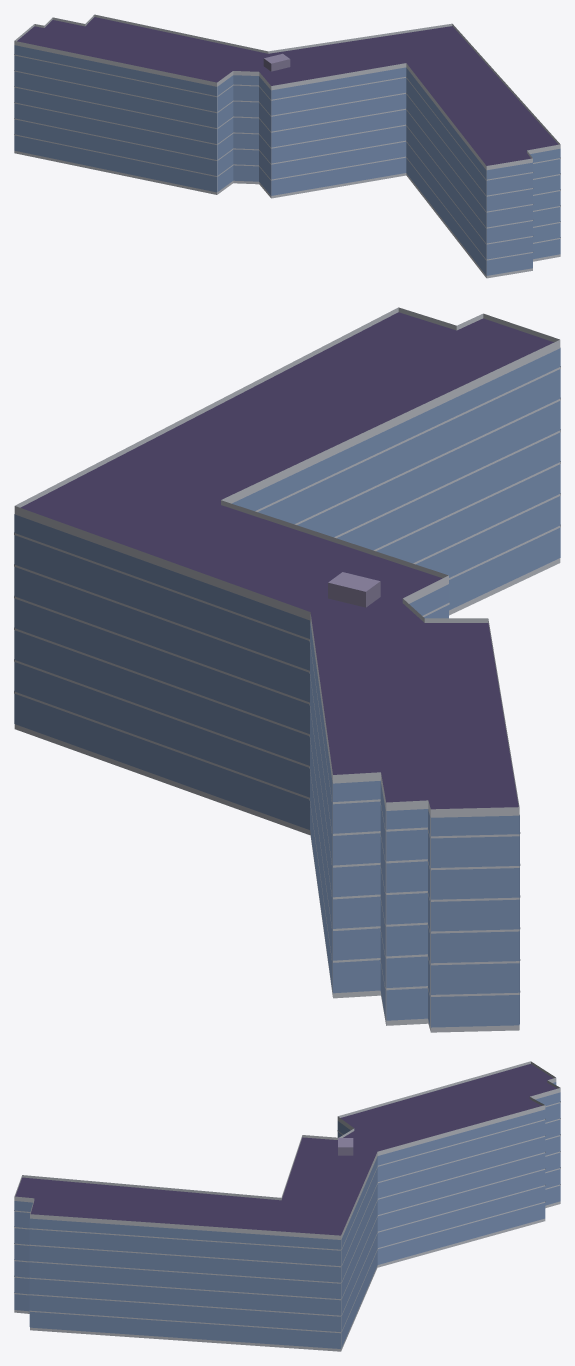
Rendered from b-000-day.glb.
3 renders of one model, top to bottom at view 1: azimuth 30°, elevation 25°; view 2: azimuth 150°, elevation 25°; view 3: azimuth 270°, elevation 25°, orthographic. The views are drawn at different scales.
Visible parts, largest first — view 1: campus/b-000-day-0; view 2: campus/b-000-day-0; view 3: campus/b-000-day-0.
Boxes of the visible parts, x1,y1,x2,y2 form: campus/b-000-day-0: (14,14,560,278); campus/b-000-day-0: (14,307,560,1032); campus/b-000-day-0: (14,1061,560,1351).
Bounding box in the file's own units: 81.81 × 26.6 × 108.
